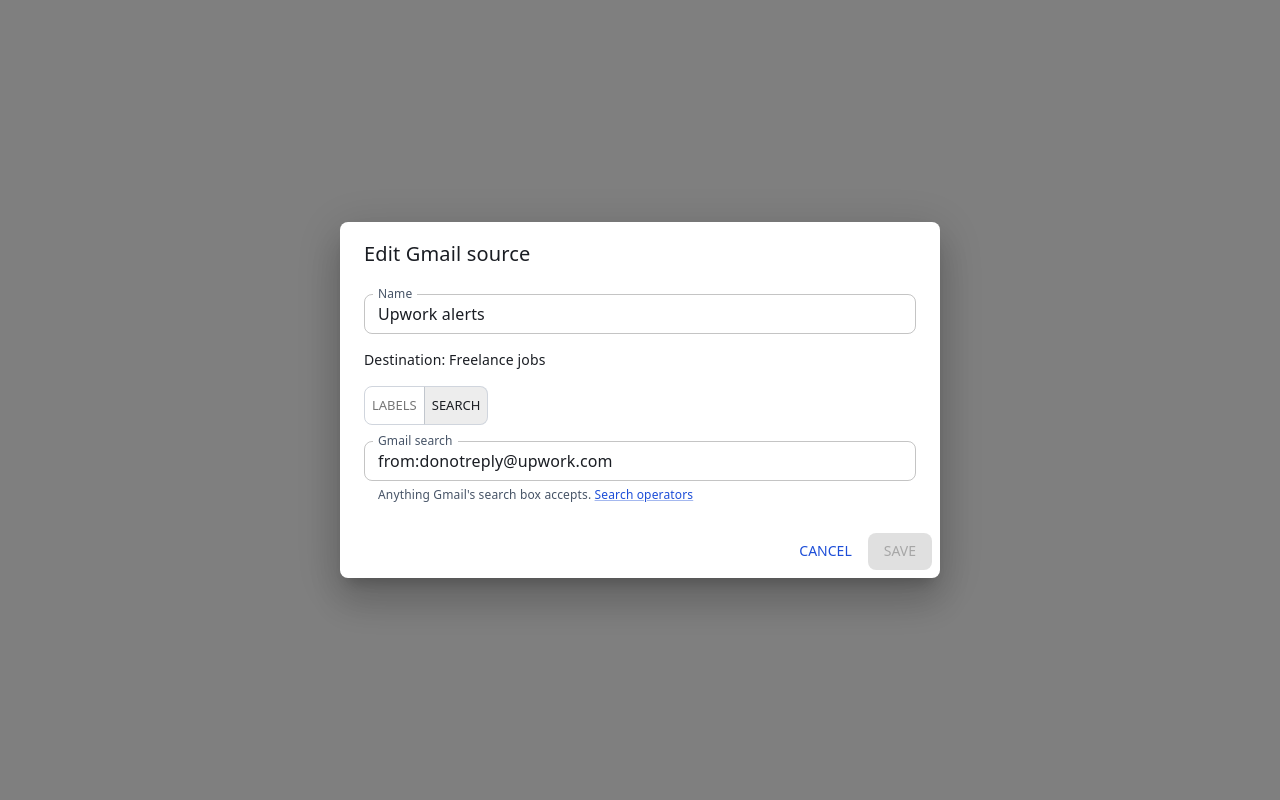
Test: EditGmailSourceDialog › changing the match › warns about the other sources it overlaps
The image size is (1280, 800).
Clear the field labelled "Gmail search" at (640, 461), box [364, 441, 916, 481]
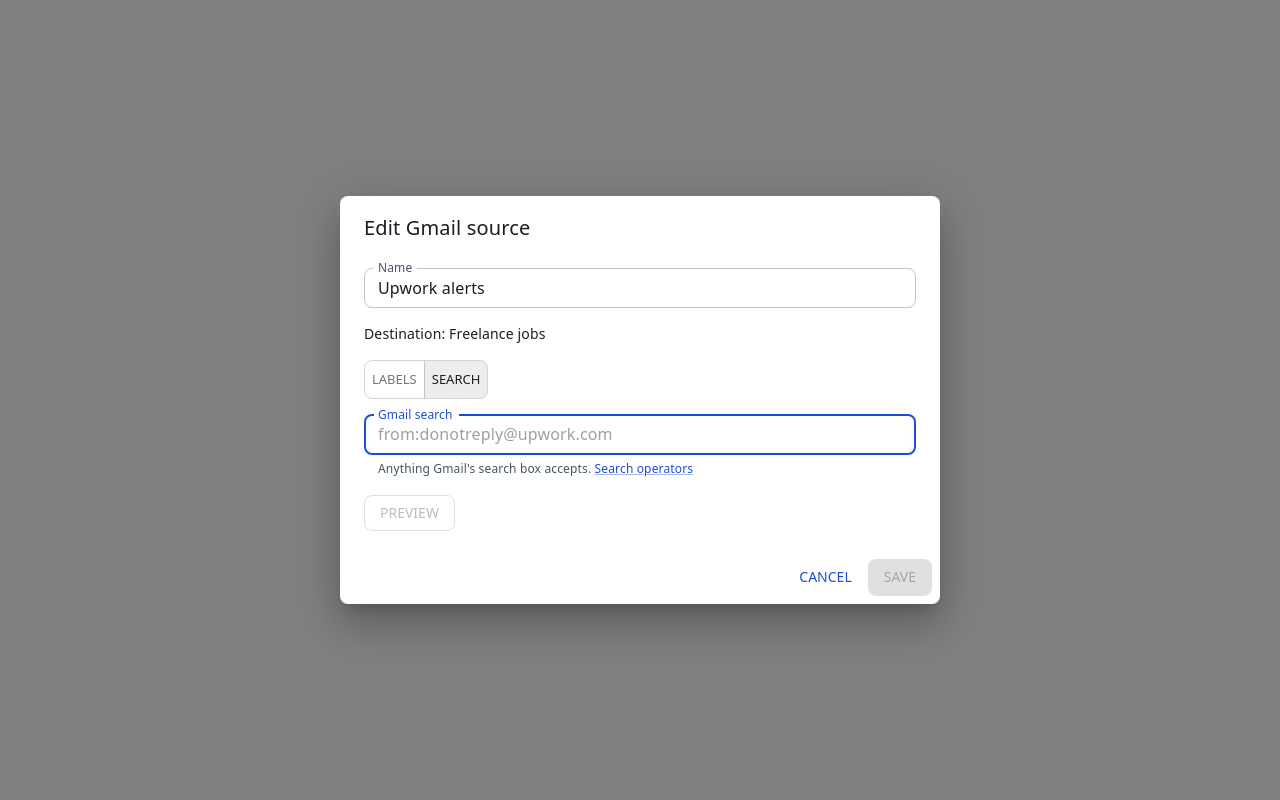
Type "from:freelancer.com" into the field labelled "Gmail search".
click(640, 435); type("from:freelancer.com")  # box [364, 415, 916, 455]
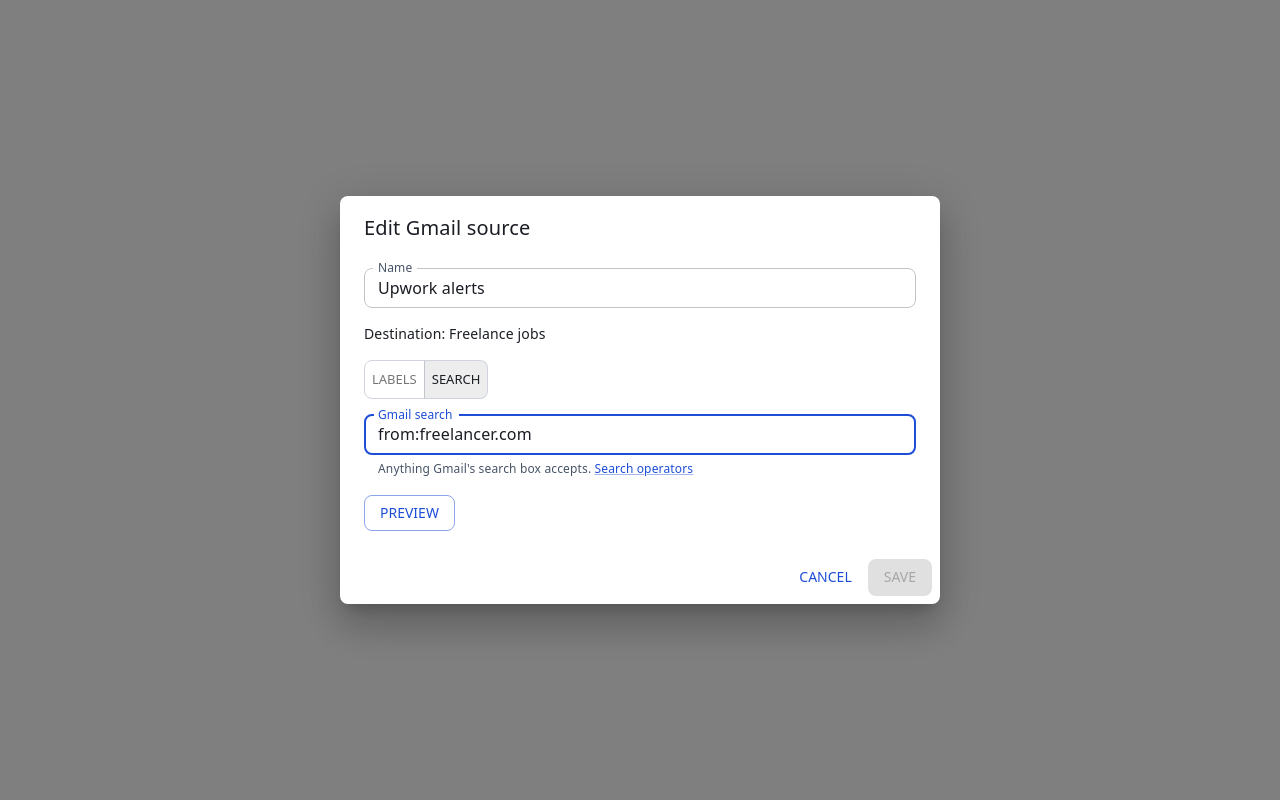
Click the button "Preview".
click(409, 513)  # box [364, 495, 455, 531]
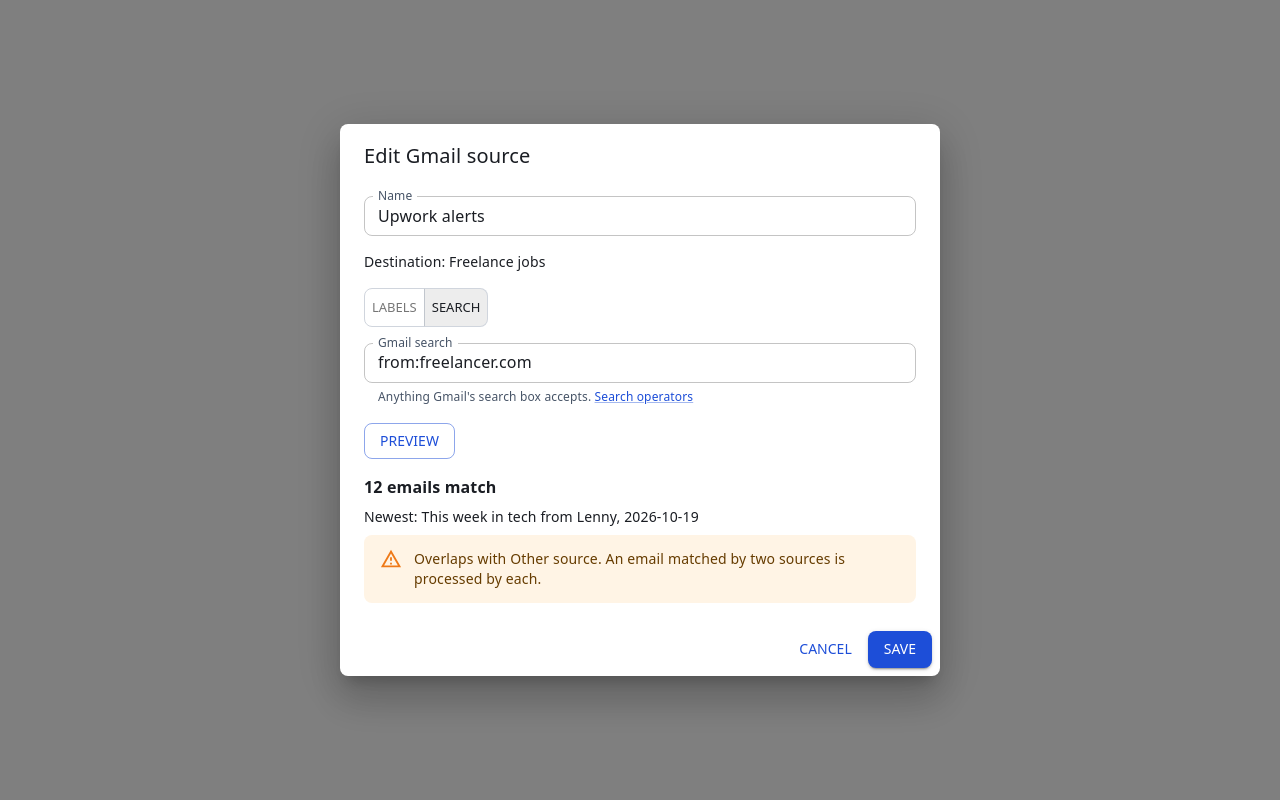
Expected: the message does not show "Itself", [364, 535, 916, 603]
Expected: the message shows "Other source", [414, 549, 845, 588]
